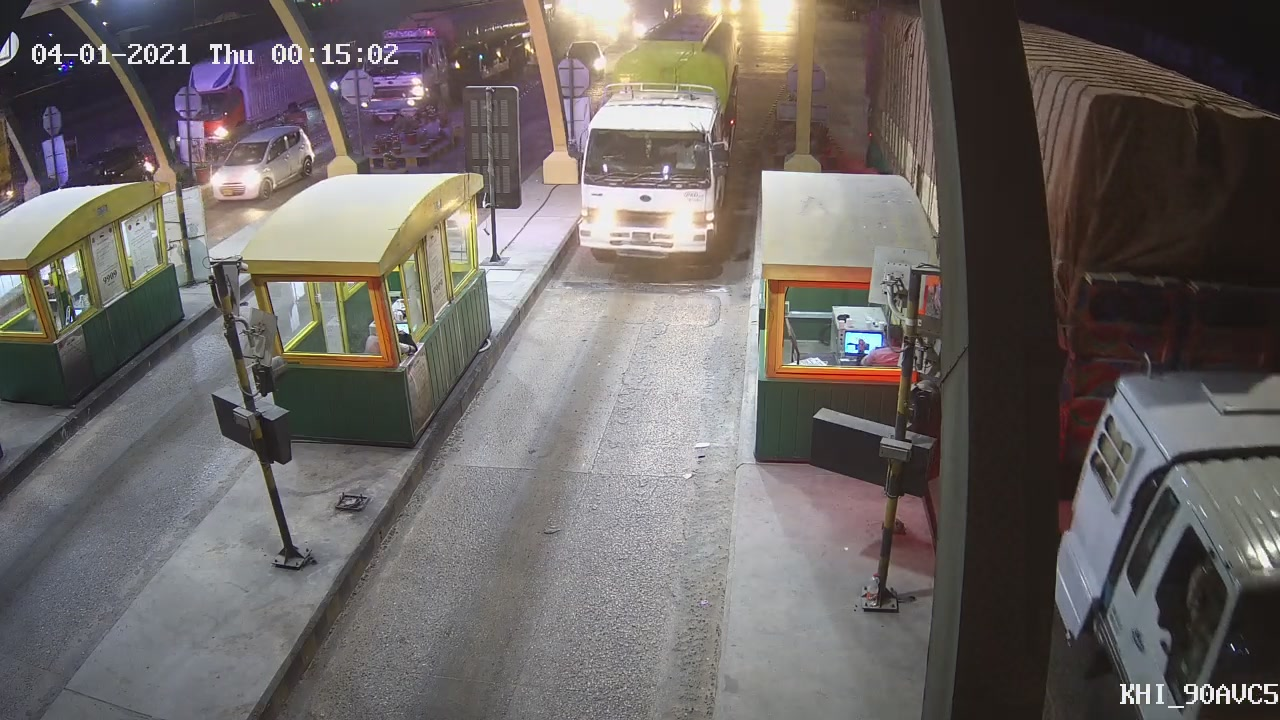F6: (566, 7, 742, 290)
